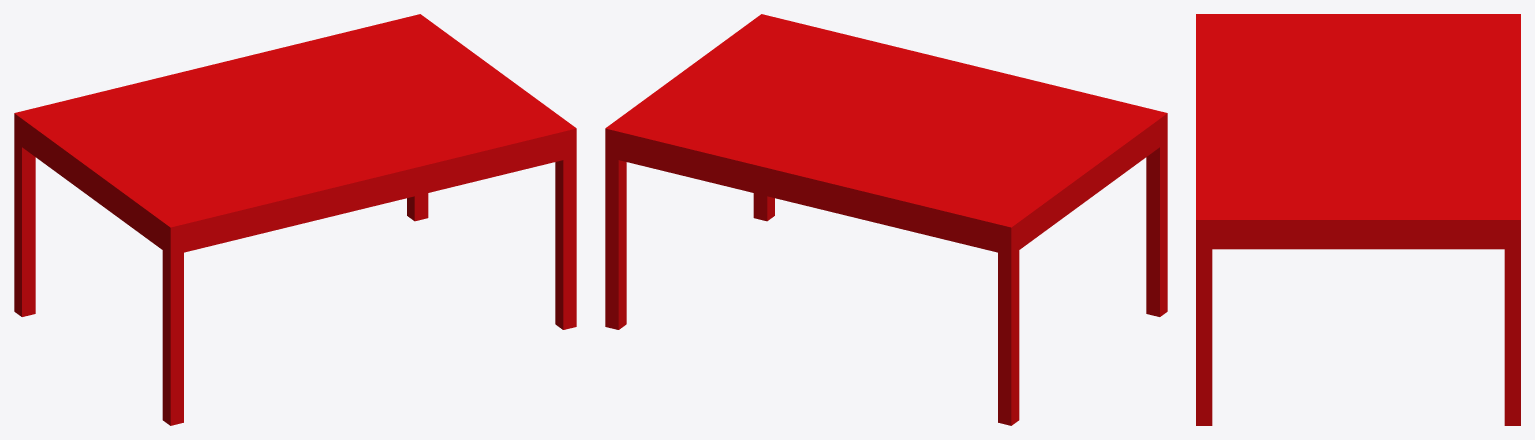
File: Table.glb
3 views of the same model, side by side, from view 1: azimuth 30°, elevation 25°; view 2: azimuth 150°, elevation 25°; view 3: azimuth 270°, elevation 25° (orthographic). The views are drawn at different scales.
Visible parts, largest first — view 1: Table; view 2: Table; view 3: Table.
Part boxes in pixels (bbox=[...]): Table: bbox=[14, 14, 576, 425]; Table: bbox=[605, 14, 1167, 425]; Table: bbox=[1196, 14, 1520, 425].
Size of the model in its own units: 1.83 by 0.8534 by 1.22.
